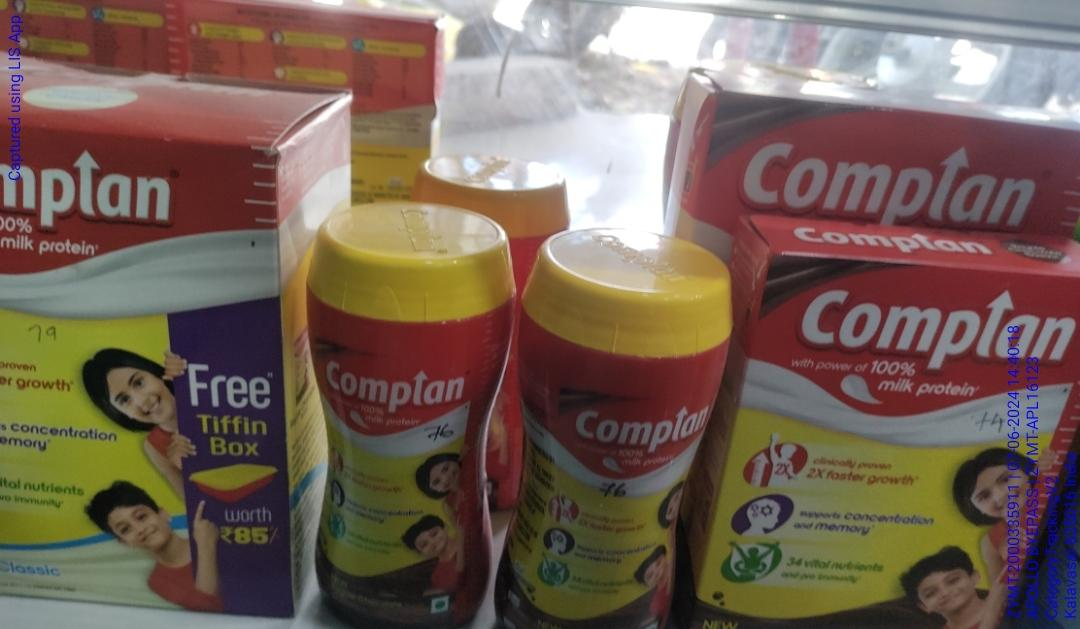COMPLAN_CHOCOLATE_500_GMS_JAR: (312, 222, 495, 629), (512, 237, 692, 629)
